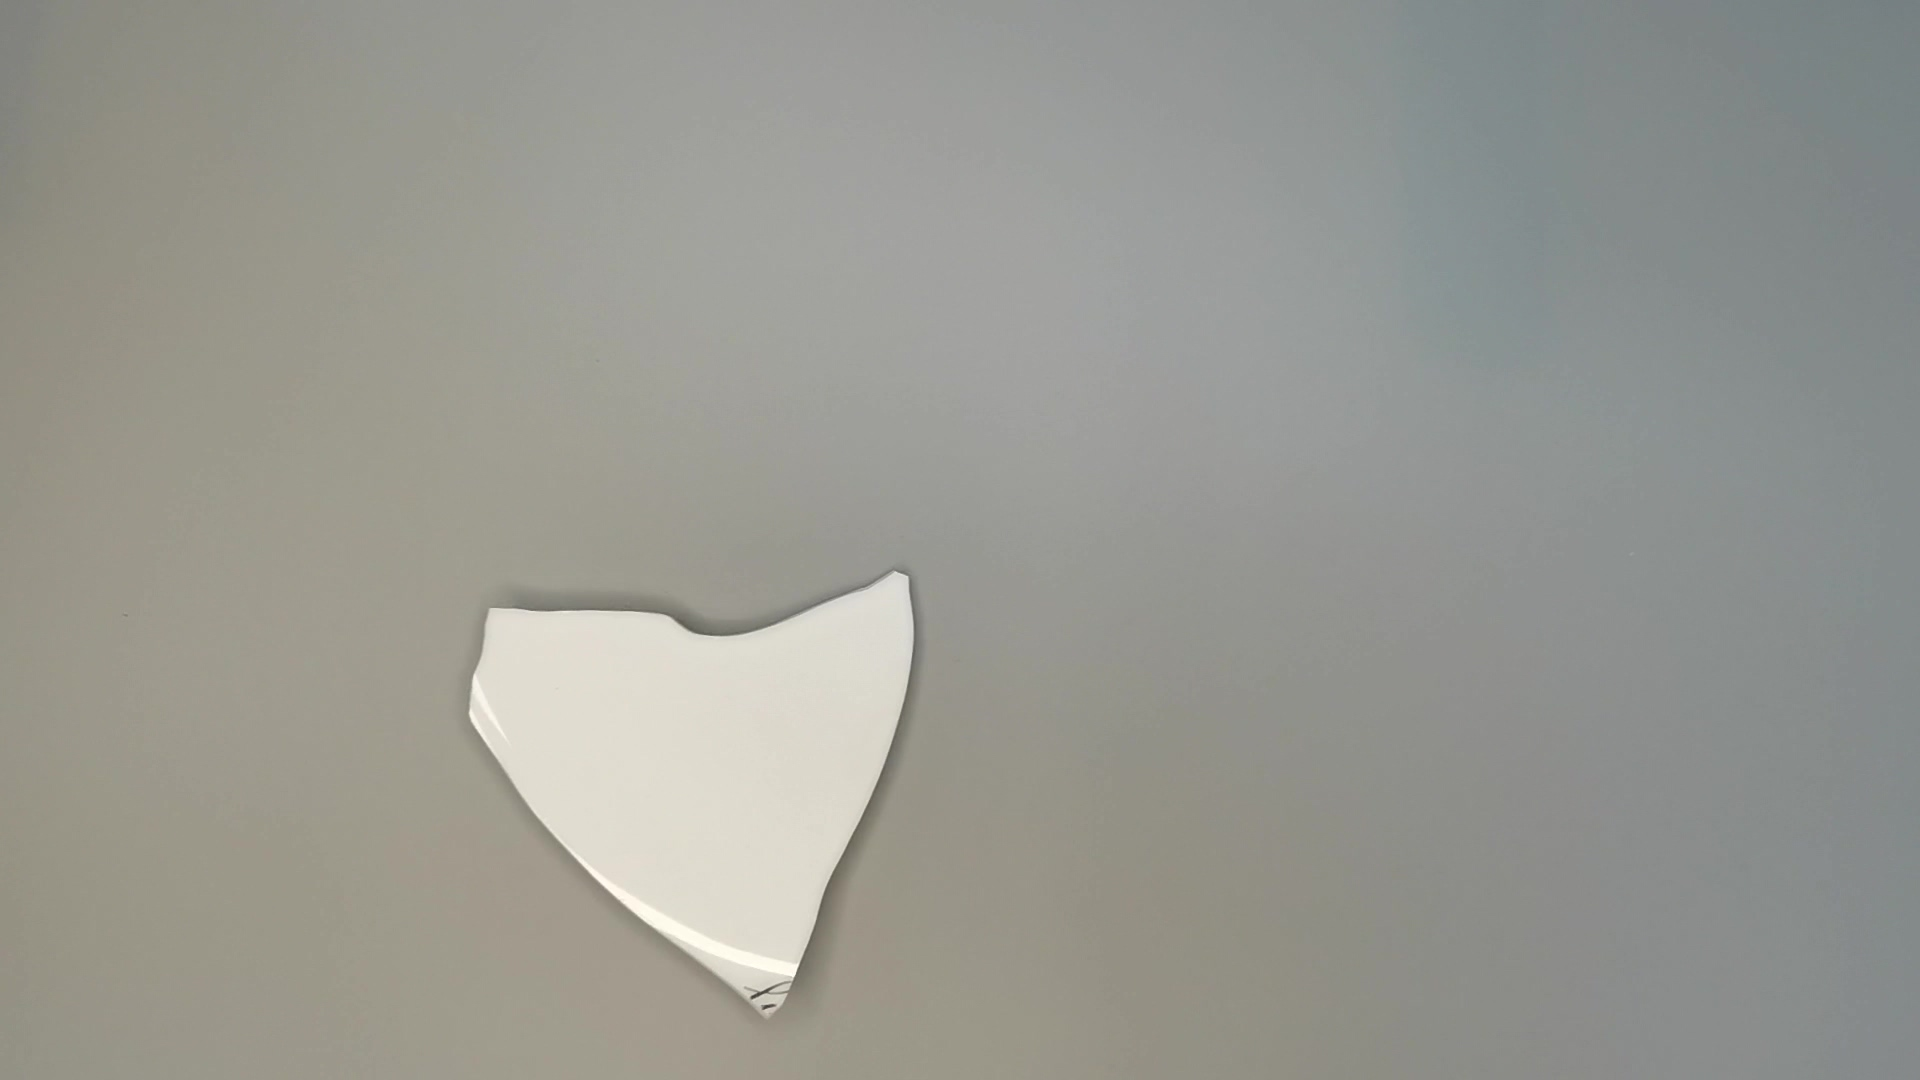ceramic: (456, 568, 918, 1036)
